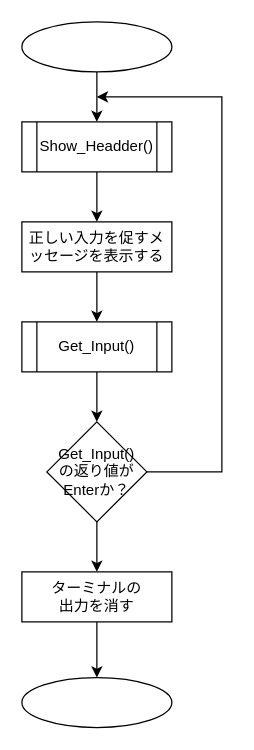
This 254x750 diagram has some shape labels left out. Here are the shapes that lost their labels. From the top down, the box of each, then its label:
(21, 21, 172, 72): Suggest_Reinput() 開始
(21, 676, 172, 728): Sugget_Reinput() 終了
